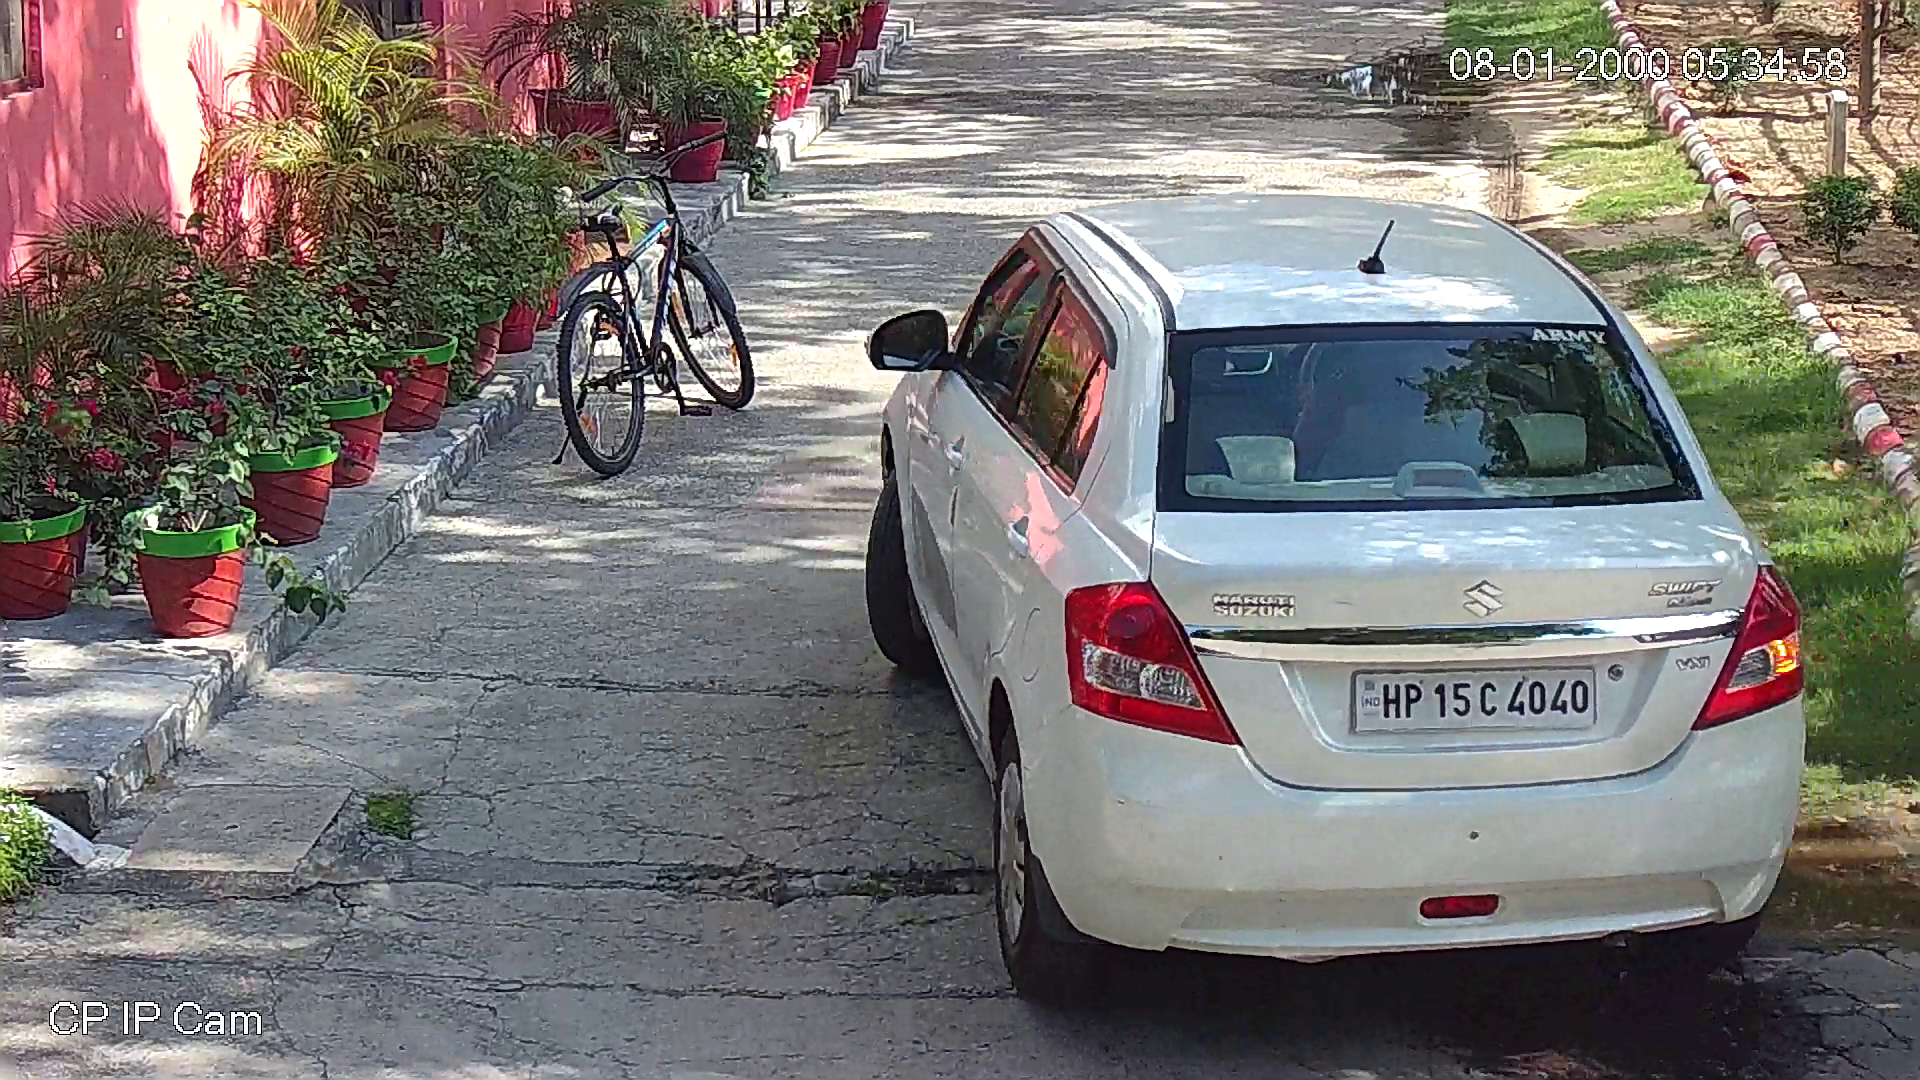plate: (1346, 661, 1604, 736)
